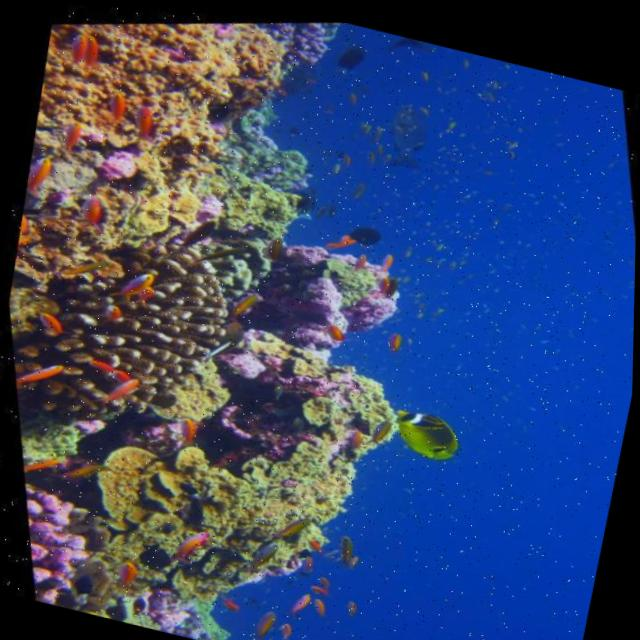Healthy Coral: (5, 1, 402, 314), (40, 368, 429, 640), (0, 181, 315, 474), (0, 444, 153, 620)
